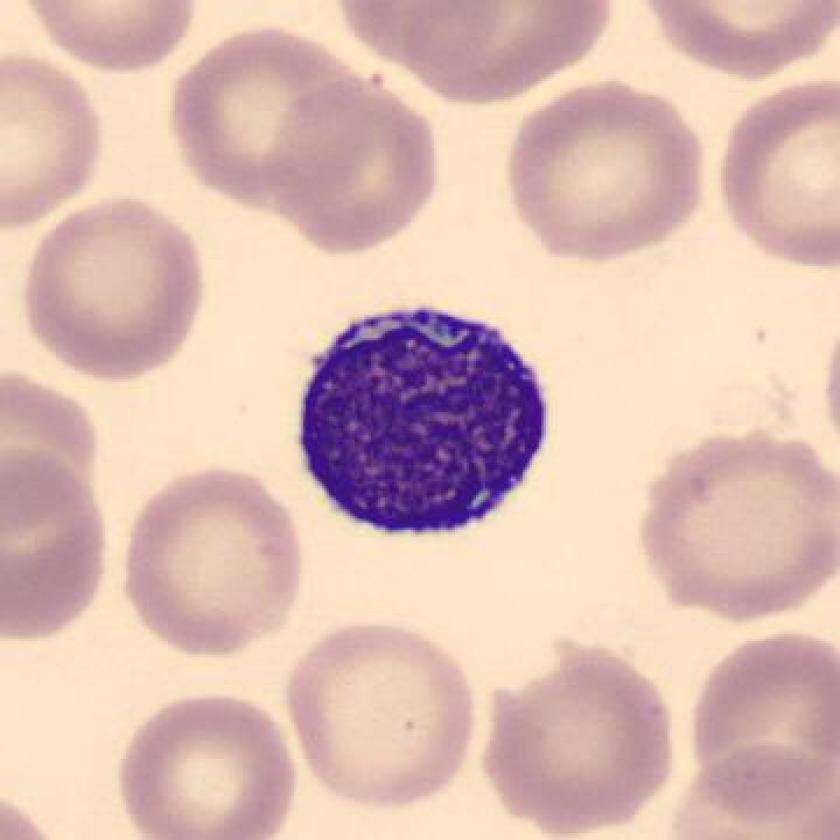lymphocyte: (284, 281, 564, 556)
